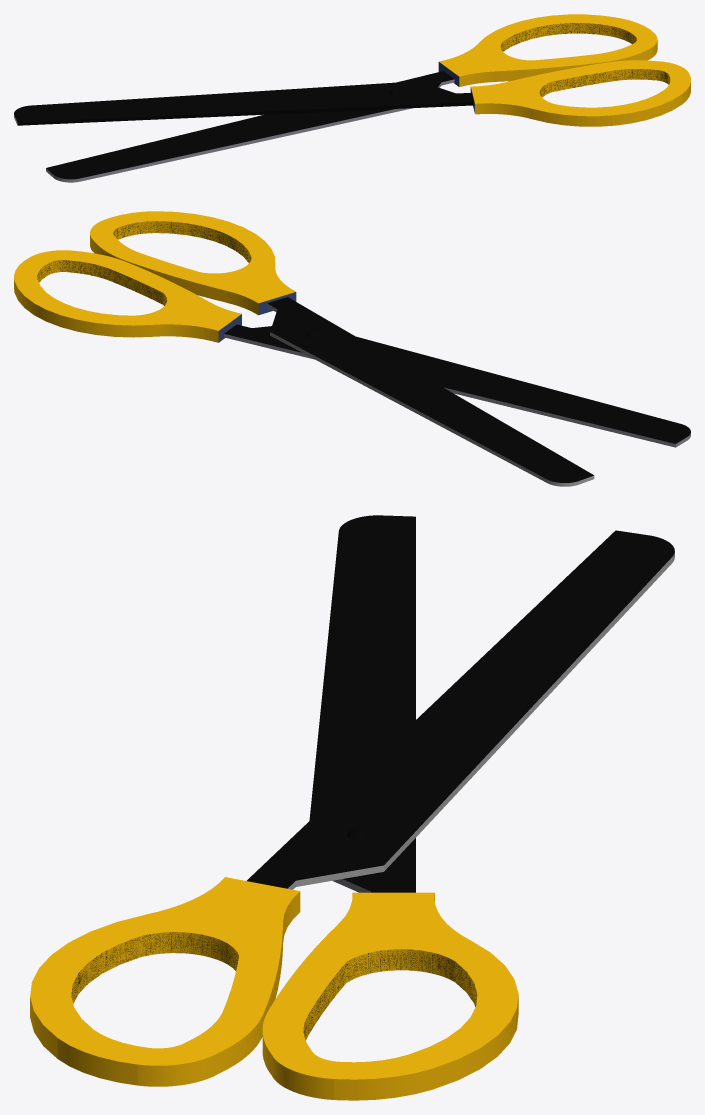
Rendered from scissors_04_origin_gt_1.dae.
The picture shows the model from 3 angles, top to bottom: view 1: azimuth 30°, elevation 25°; view 2: azimuth 150°, elevation 25°; view 3: azimuth 270°, elevation 25°; orthographic projection. The views are drawn at different scales.
Visible parts, largest first — view 1: scissor (×3), scissor_1 (×4); view 2: scissor (×4), scissor_1 (×4); view 3: scissor (×4), scissor_1 (×3).
Part boxes in pixels (bbox=[...]): scissor (×3): bbox=[14, 60, 690, 126]; scissor_1 (×4): bbox=[46, 14, 657, 182]; scissor (×4): bbox=[90, 211, 594, 486]; scissor_1 (×4): bbox=[14, 250, 690, 447]; scissor (×4): bbox=[30, 530, 674, 1086]; scissor_1 (×3): bbox=[262, 515, 518, 1100].
Bounding box in the file's own units: 9.29 × 4.39 × 0.165.
